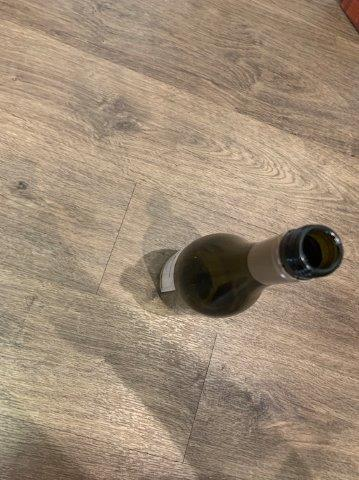botolkaca: (156, 225, 345, 319)
